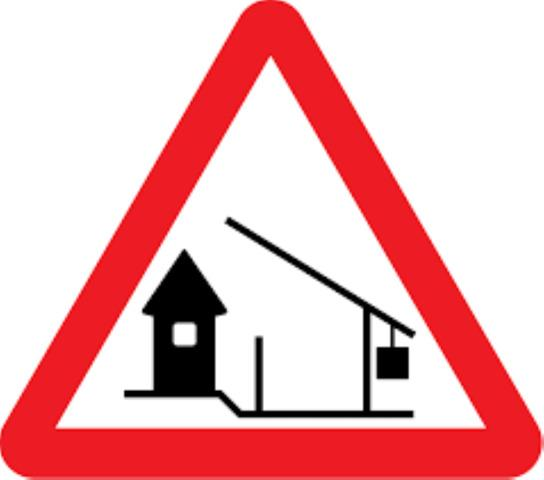Barrier Ahead: (27, 25, 526, 461)
